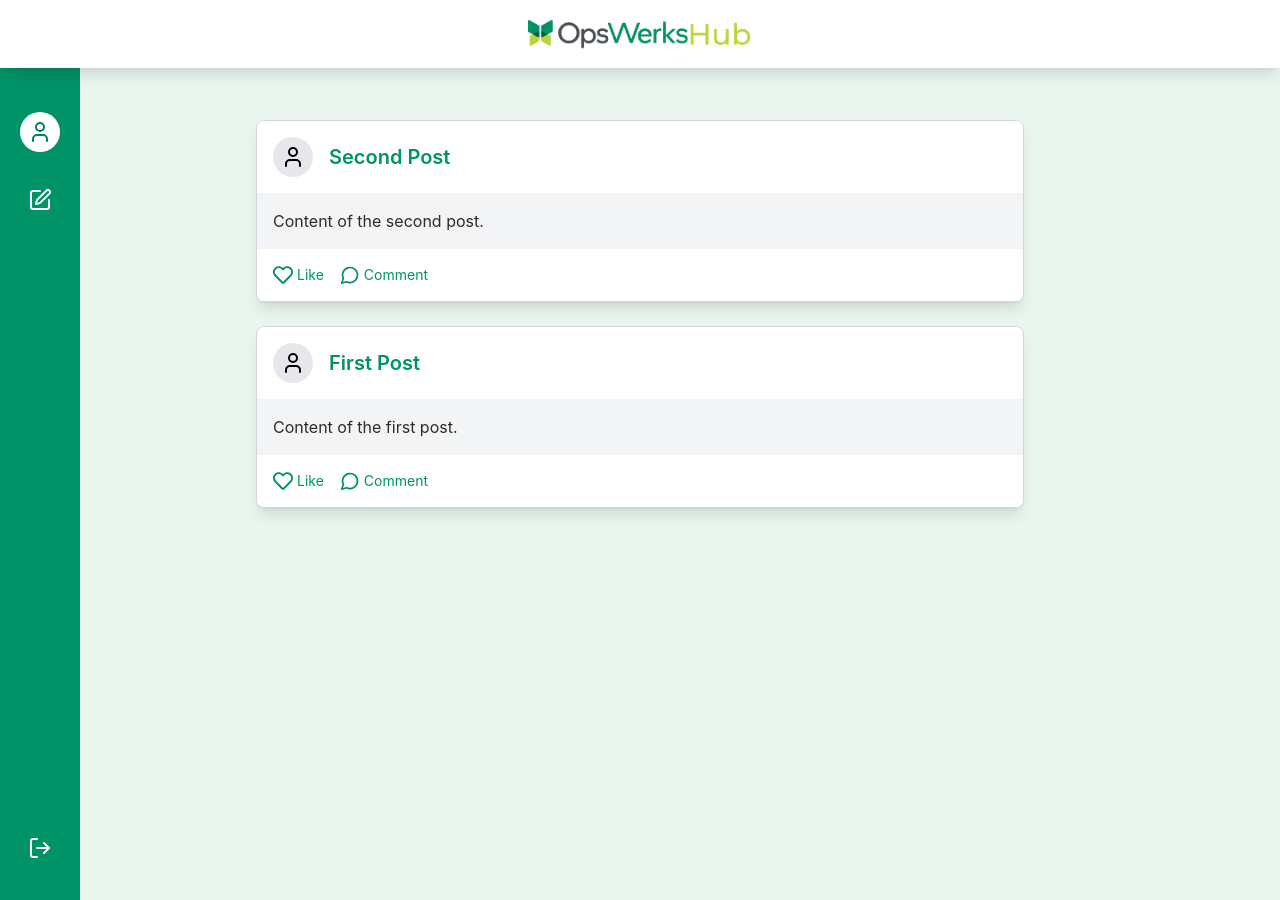
Test: Home Component › opens and closes the PostCreate overlay
# Click the button to open the PostCreate overlay
Click the 2nd button named "create a post" at (40, 200), box 24,184 -> 56,216
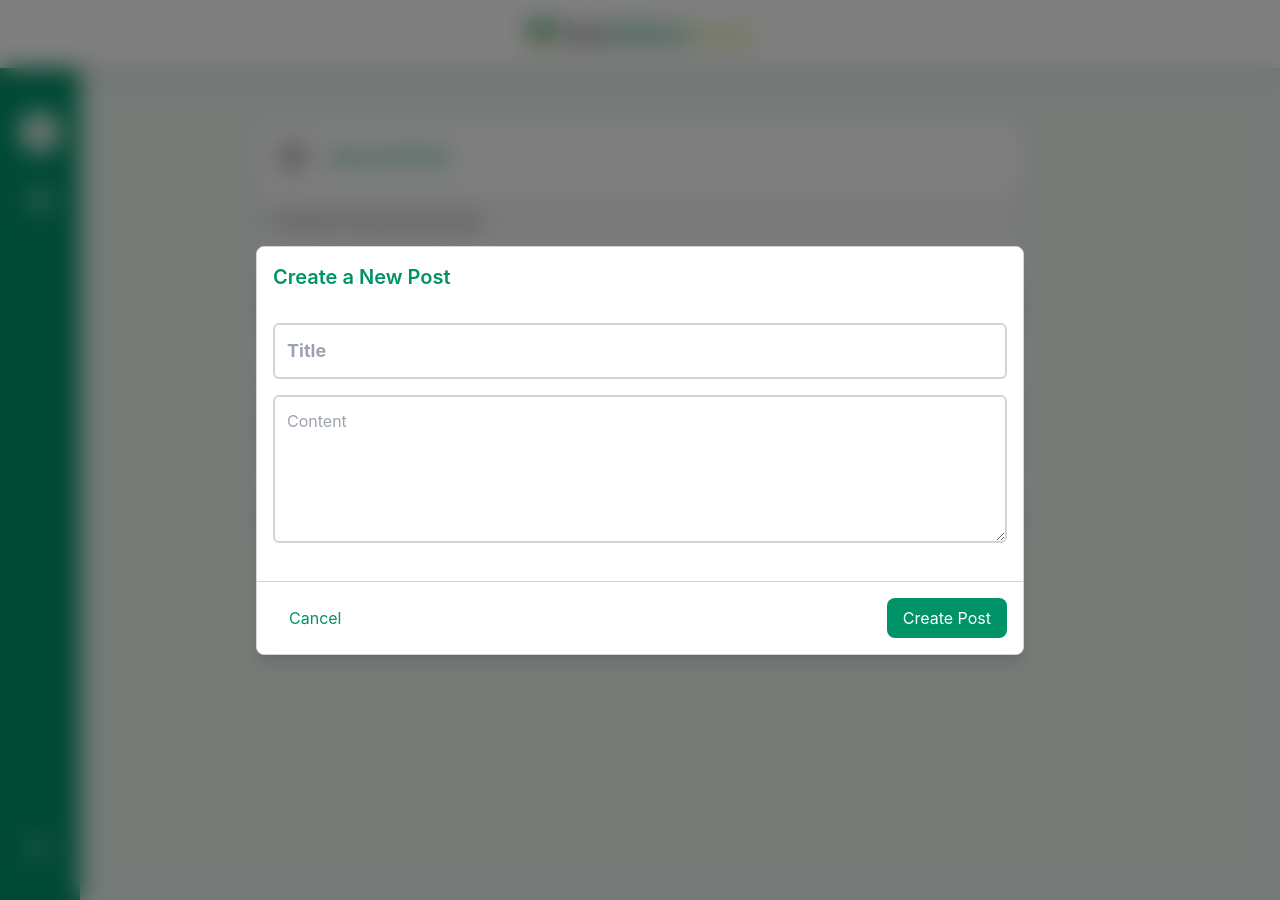
Now the heading "Create a New Post" is shown, box 273,262 -> 450,290
# Click the cancel button to close the overlay
Click the button "Cancel" at (315, 618), box 273,598 -> 358,638
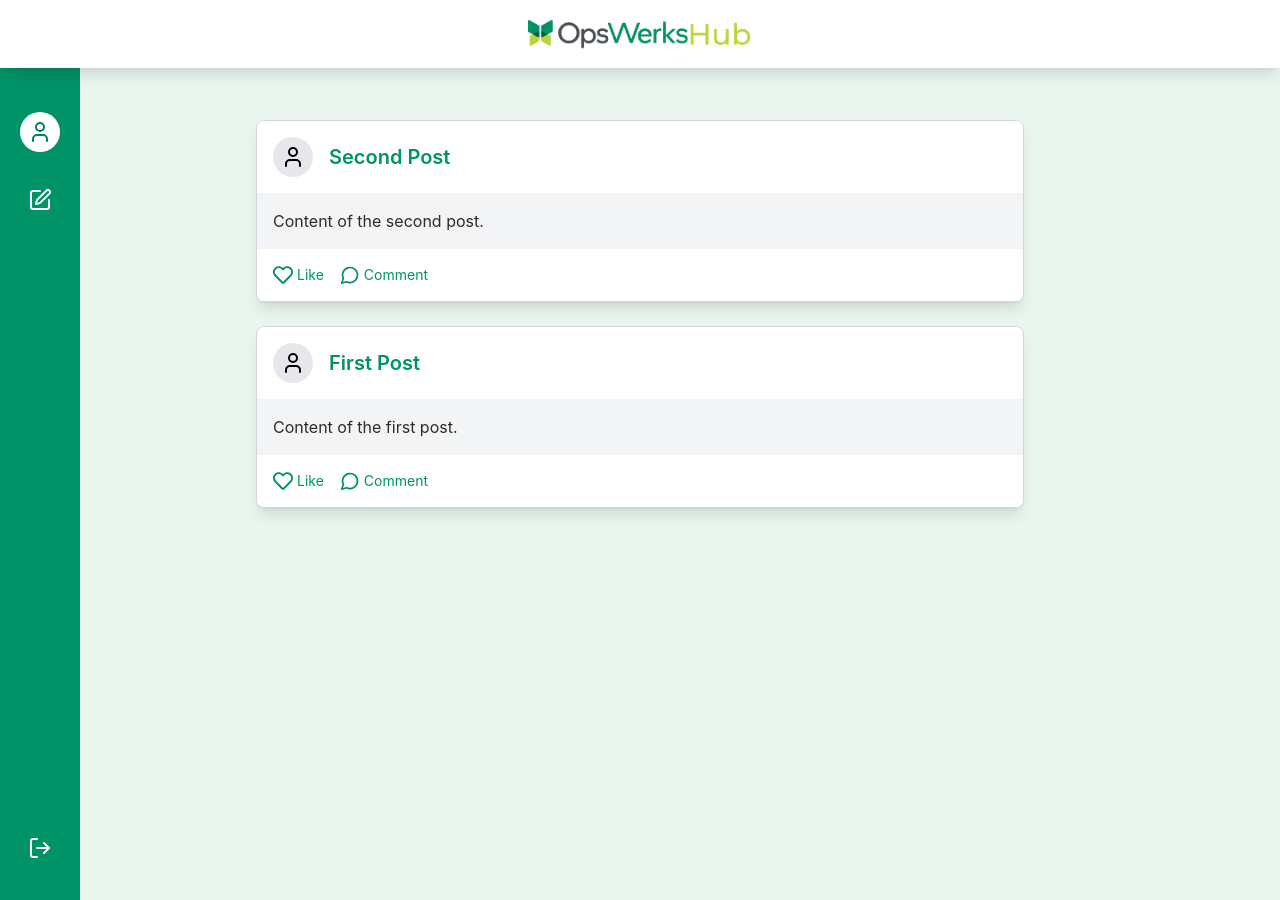
Now the heading "Create a New Post" is gone
